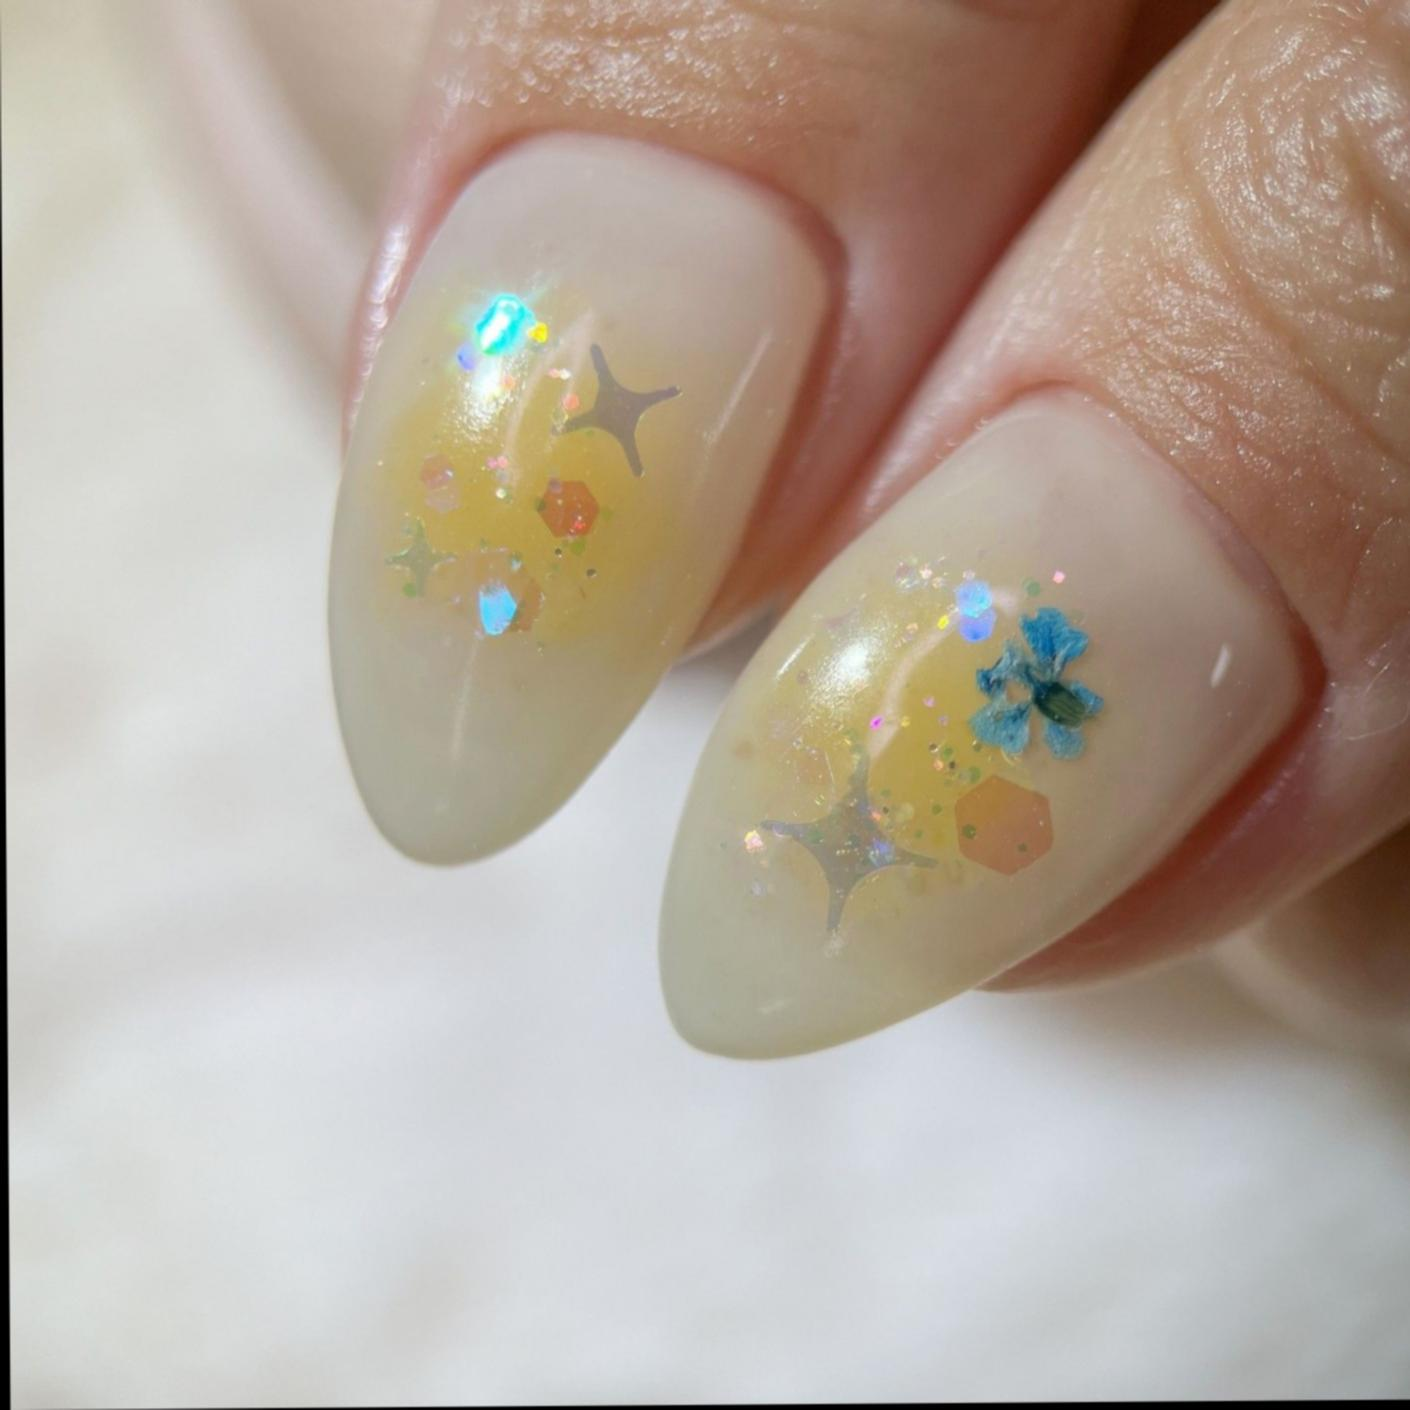nail: (653, 378, 1333, 1063), (322, 121, 856, 869)
